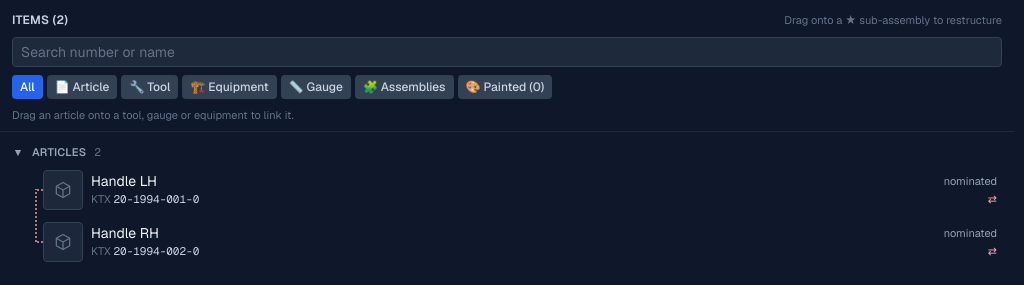
Scenario: ItemsPane › mirror connectors › hovering either row of a pair highlights both, and hovering away removes it
Hover over the button with test id "item-row-2" at (63, 190), box [28,164,1006,214]
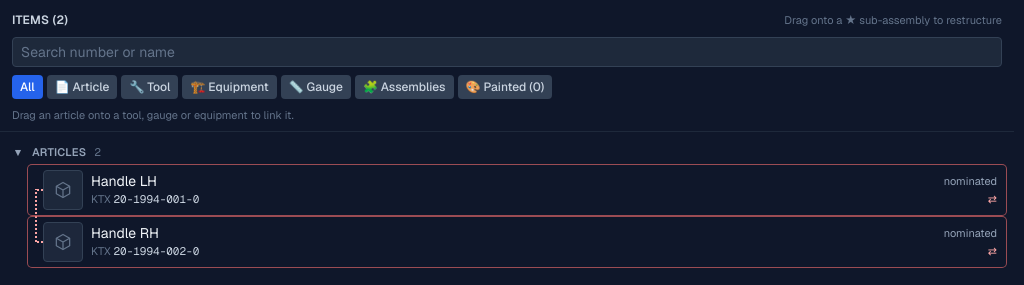
Expected: the element with test id "mirror-seg-2-0-start" has class "opacity-100", [35,188,37,214]
Expected: the element with test id "mirror-seg-3-0-end" has class "opacity-100", [35,216,37,242]
Expected: the button with test id "item-row-2" has class "ring-1", [28,164,1006,214]
